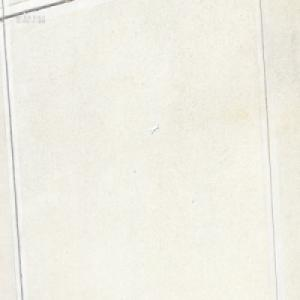Wrench: (150, 123, 159, 133)
